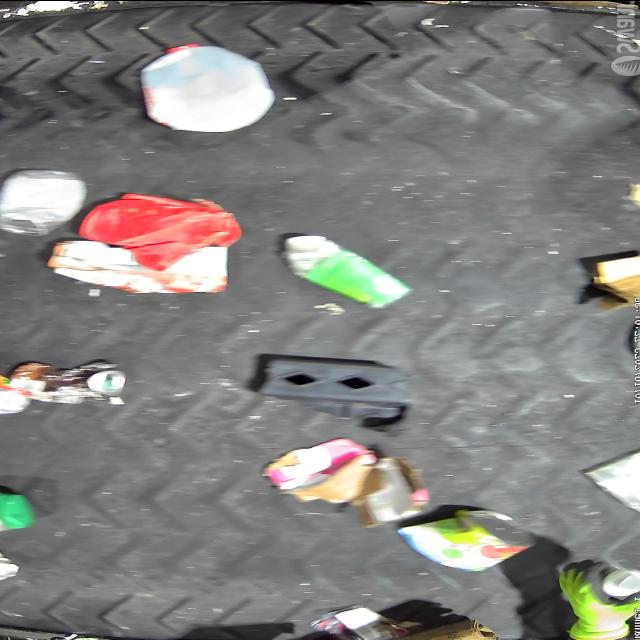can: (279, 232, 412, 306), (404, 508, 536, 570), (8, 359, 128, 403), (0, 367, 32, 414)
milk_jug: (136, 40, 274, 130)
non_white_jug: (76, 192, 246, 270)
